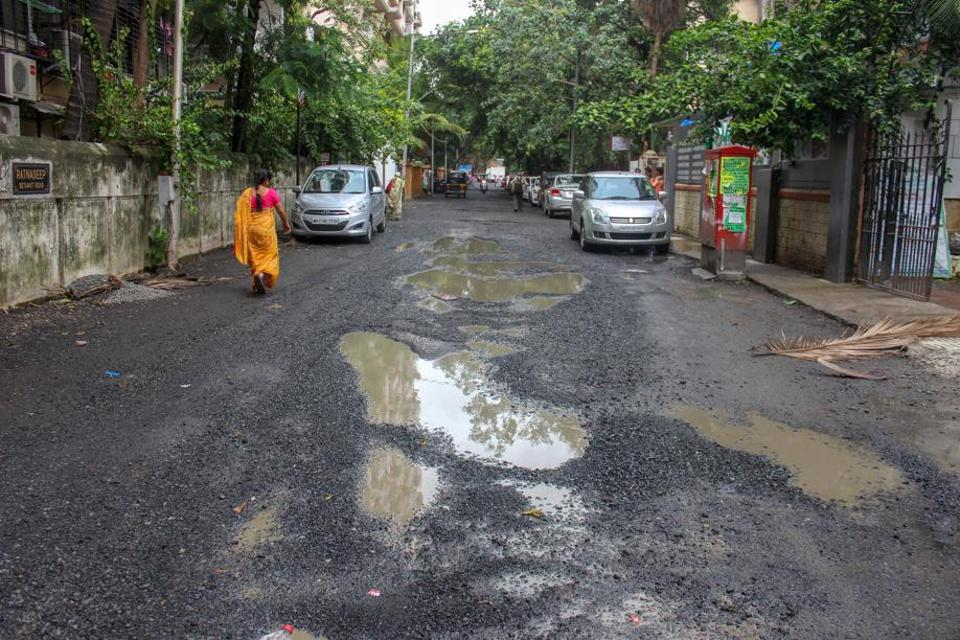pothole: (344, 320, 634, 481), (700, 436, 940, 527), (407, 252, 584, 316), (332, 438, 431, 531)
